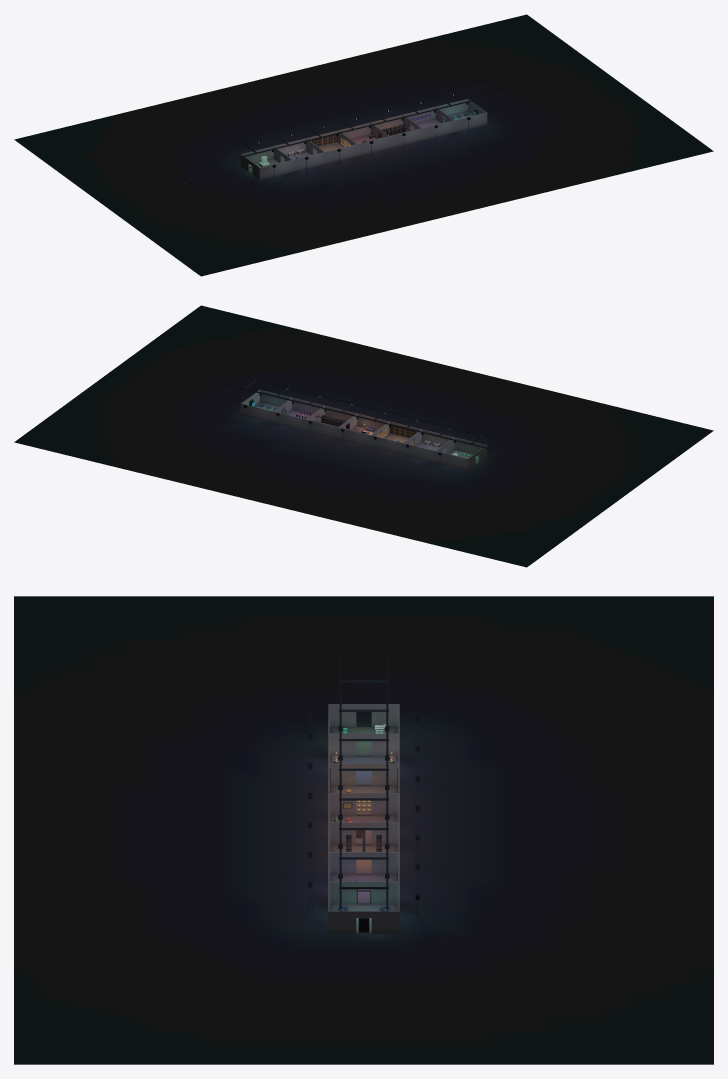
3 views of the same model, one above another, from view 1: azimuth 30°, elevation 25°; view 2: azimuth 150°, elevation 25°; view 3: azimuth 270°, elevation 25° (orthographic). The views are drawn at different scales.
Parts seen in each view (by area): view 1: stage, arch, rig; view 2: stage, arch, rig; view 3: stage, arch, rig.
Part boxes in pixels (bbox=[...]): stage: bbox=[14, 14, 713, 276]; arch: bbox=[240, 99, 487, 179]; rig: bbox=[222, 83, 505, 180]; stage: bbox=[14, 305, 713, 567]; arch: bbox=[240, 390, 487, 470]; rig: bbox=[222, 374, 505, 469]; stage: bbox=[14, 596, 713, 1064]; arch: bbox=[328, 704, 399, 933]; rig: bbox=[306, 660, 421, 926].
Size of the model in its own units: 190 by 8.85 by 120.
